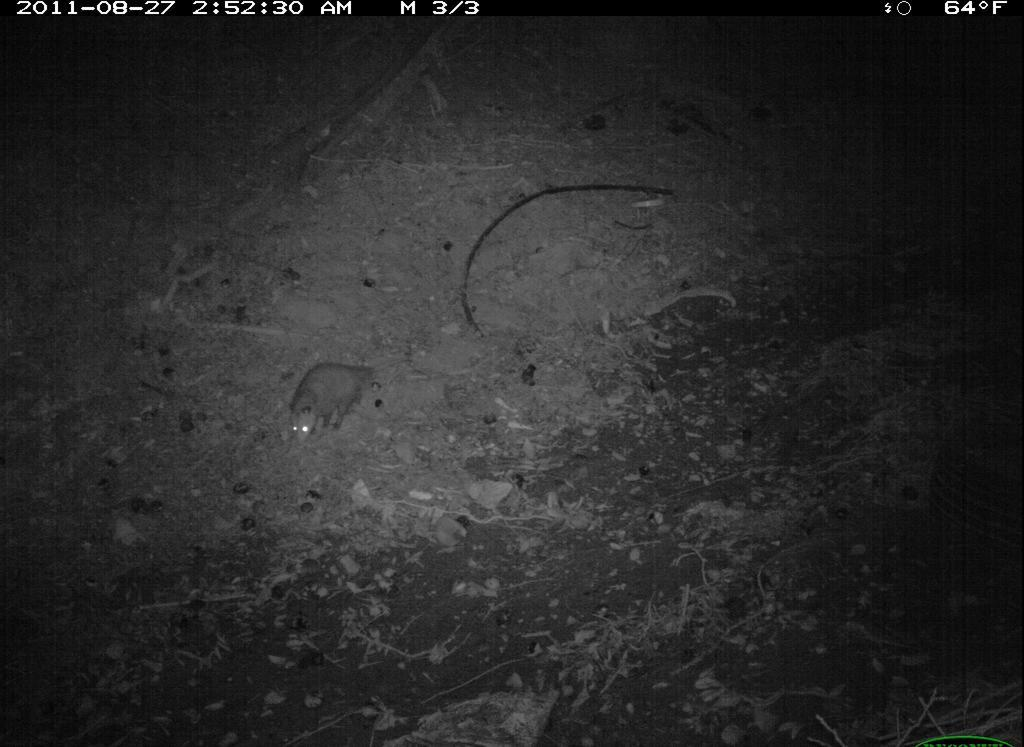opossum: (267, 349, 412, 449)
